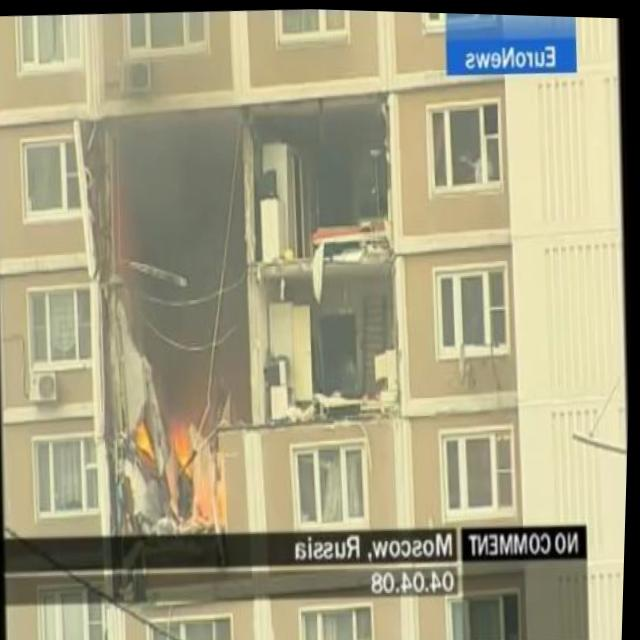fire: (166, 405, 202, 479), (133, 414, 156, 463)
